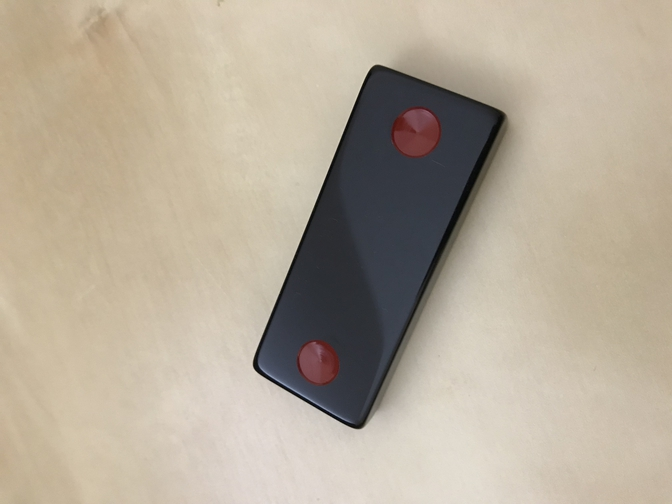earth: (252, 64, 505, 431)
